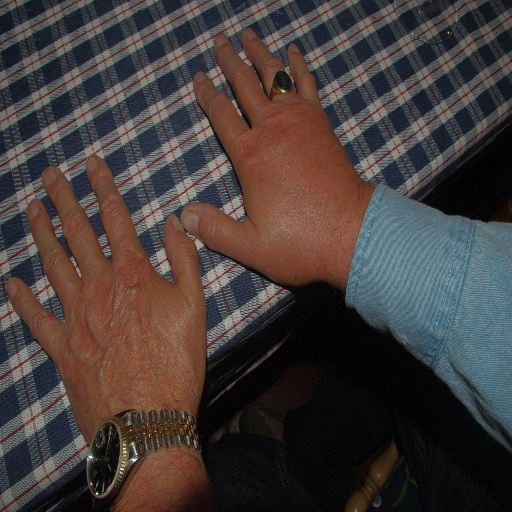hand: (13, 161, 216, 476), (179, 27, 363, 288)
